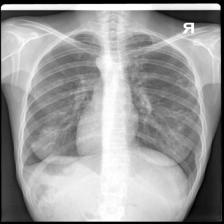tuberculosis: (14, 25, 208, 198)
